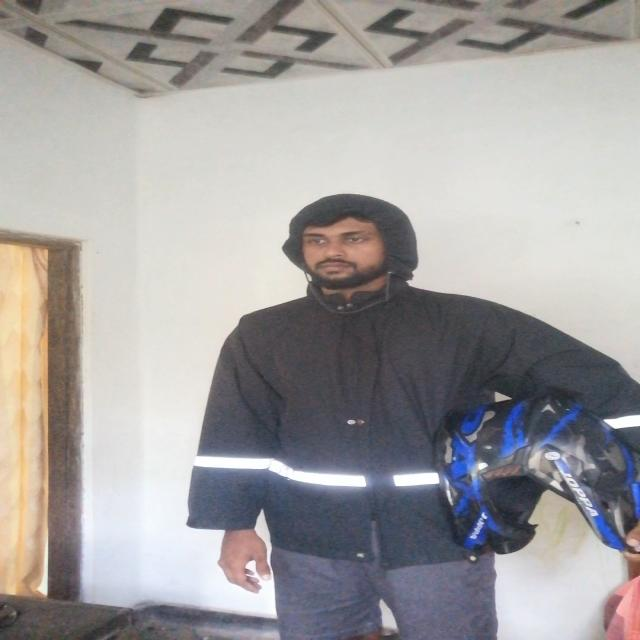Jacket_Wearer: (192, 287, 640, 576)
Person: (180, 190, 640, 640)
